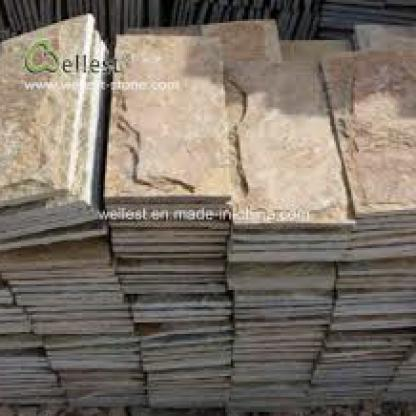Metamorphic_Quartize: (107, 36, 225, 204), (321, 50, 414, 214)
